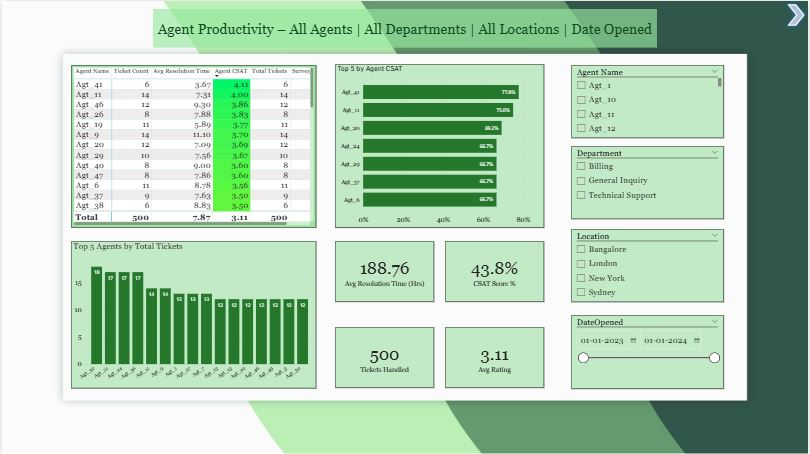

What the dashboard file says about the page in this screenshot:
{"tool":"powerbi","page":{"name":"Page 2","canvas":[1920,1080],"ordinal":1},"visuals":[{"type":"pivotTable","fields":{"Rows":["Agents.Name"],"Values":["KPIs.Ticket Count","KPIs.Average Resolution Time","KPIs.Agent CSAT","KPIs.Total Tickets","KPIs.Survey Count"]},"box":[164.3,151.8,583.9,387.5],"z":0},{"type":"clusteredBarChart","title":"Top 5 by Agent CSAT","fields":{"Category":["Agents.Name"],"Y":["KPIs.CSAT %"]},"box":[792.9,150,497.6,390.5],"z":1000},{"type":"columnChart","title":"Top 5 Agents by Total Tickets","fields":{"Category":["Agents.Name"],"Y":["KPIs.Total Tickets"]},"box":[165.1,572.1,583.7,351.2],"z":2000},{"type":"card","fields":{"Values":["KPIs.Tickets Handled"]},"box":[792.9,776.2,235.7,145.2],"z":3000},{"type":"card","fields":{"Values":["KPIs.Avg Resolution Time (Hrs)"]},"box":[792.9,571.4,235.7,145.2],"z":4000},{"type":"card","fields":{"Values":["KPIs.CSAT Score %"]},"box":[1054.8,571.4,235.7,145.2],"z":5000},{"type":"card","fields":{"Values":["KPIs.Avg Rating"]},"box":[1054.8,776.2,235.7,145.2],"z":6000},{"type":"slicer","fields":{"Values":["Agents.Agent Name"]},"box":[1354.8,152.4,364.3,173.8],"z":7000},{"type":"slicer","fields":{"Values":["Agents.Department"]},"box":[1354.8,345.2,364.3,173.8],"z":8000},{"type":"slicer","fields":{"Values":["Agents.Location"]},"box":[1354.8,542.9,364.3,173.8],"z":9000},{"type":"slicer","fields":{"Values":["Tickets.DateOpened"]},"box":[1354.8,747.6,364.3,176.2],"z":10000},{"type":"actionButton","box":[1861.9,0,57.1,66.7],"z":11000},{"type":"card","fields":{"Values":["Agents.PageTitle_Agent"]},"box":[360,20,1200,92],"z":11001}]}

Visuals, with their boxes in screenshot pixels (x1, y1, x2, y2), scaled from the page's 1920x1080 canvas onto the 810x454 screenshot:
pivotTable - Agents.Name x KPIs.Ticket Count: {"left": 69, "top": 64, "right": 316, "bottom": 227}
"Top 5 by Agent CSAT" clusteredBarChart: {"left": 335, "top": 63, "right": 544, "bottom": 227}
"Top 5 Agents by Total Tickets" columnChart: {"left": 70, "top": 240, "right": 316, "bottom": 388}
card - KPIs.Tickets Handled: {"left": 335, "top": 326, "right": 434, "bottom": 387}
card - KPIs.Avg Resolution Time (Hrs): {"left": 335, "top": 240, "right": 434, "bottom": 301}
card - KPIs.CSAT Score %: {"left": 445, "top": 240, "right": 544, "bottom": 301}
card - KPIs.Avg Rating: {"left": 445, "top": 326, "right": 544, "bottom": 387}
slicer - Agents.Agent Name: {"left": 572, "top": 64, "right": 725, "bottom": 137}
slicer - Agents.Department: {"left": 572, "top": 145, "right": 725, "bottom": 218}
slicer - Agents.Location: {"left": 572, "top": 228, "right": 725, "bottom": 301}
slicer - Tickets.DateOpened: {"left": 572, "top": 314, "right": 725, "bottom": 388}
actionButton: {"left": 785, "top": 0, "right": 809, "bottom": 28}
card - Agents.PageTitle_Agent: {"left": 152, "top": 8, "right": 658, "bottom": 47}
